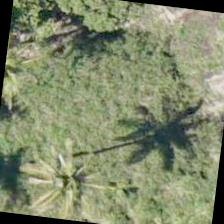Kelapa_Sawit: (0, 124, 91, 220)
